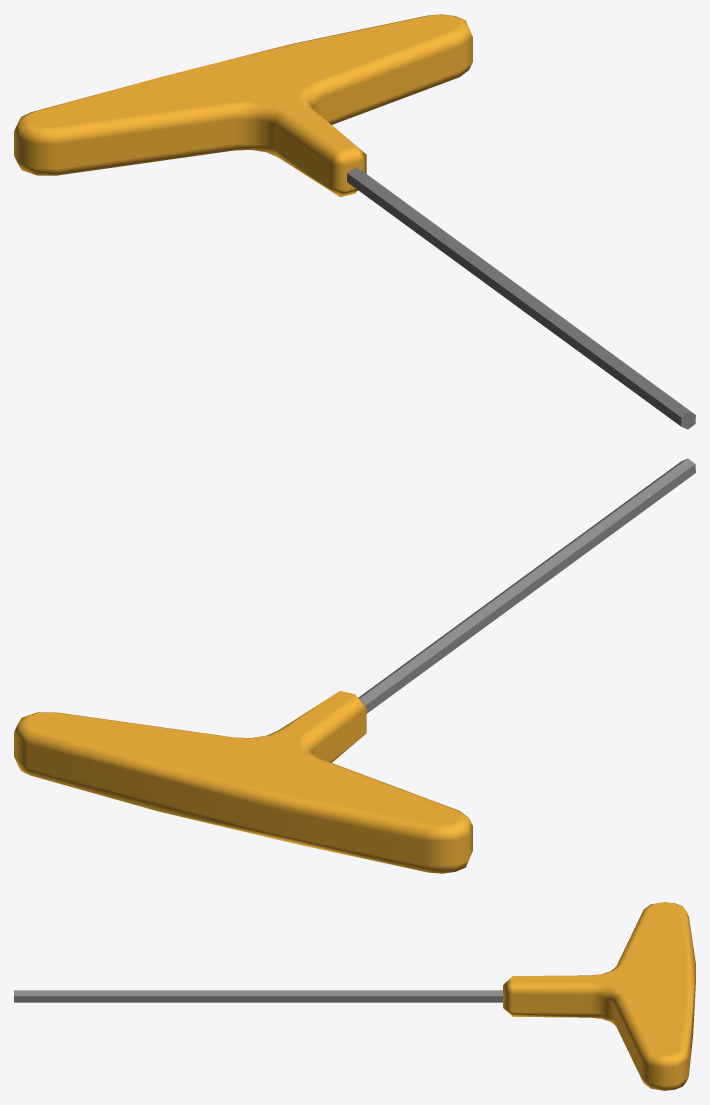
Rendered from AllenKey.fbx.
3 views of the same model, one above another, from view 1: azimuth 30°, elevation 25°; view 2: azimuth 150°, elevation 25°; view 3: azimuth 270°, elevation 25° (orthographic). The views are drawn at different scales.
Visible parts, largest first — view 1: Allen Key T Handle; view 2: Allen Key T Handle; view 3: Allen Key T Handle.
Boxes of the visible parts, box(x1,y1,x2,y2) form: Allen Key T Handle: box(14, 14, 695, 429); Allen Key T Handle: box(14, 458, 695, 873); Allen Key T Handle: box(14, 902, 695, 1090).
Size of the model in its own units: 7.79 by 0.8 by 13.95.
